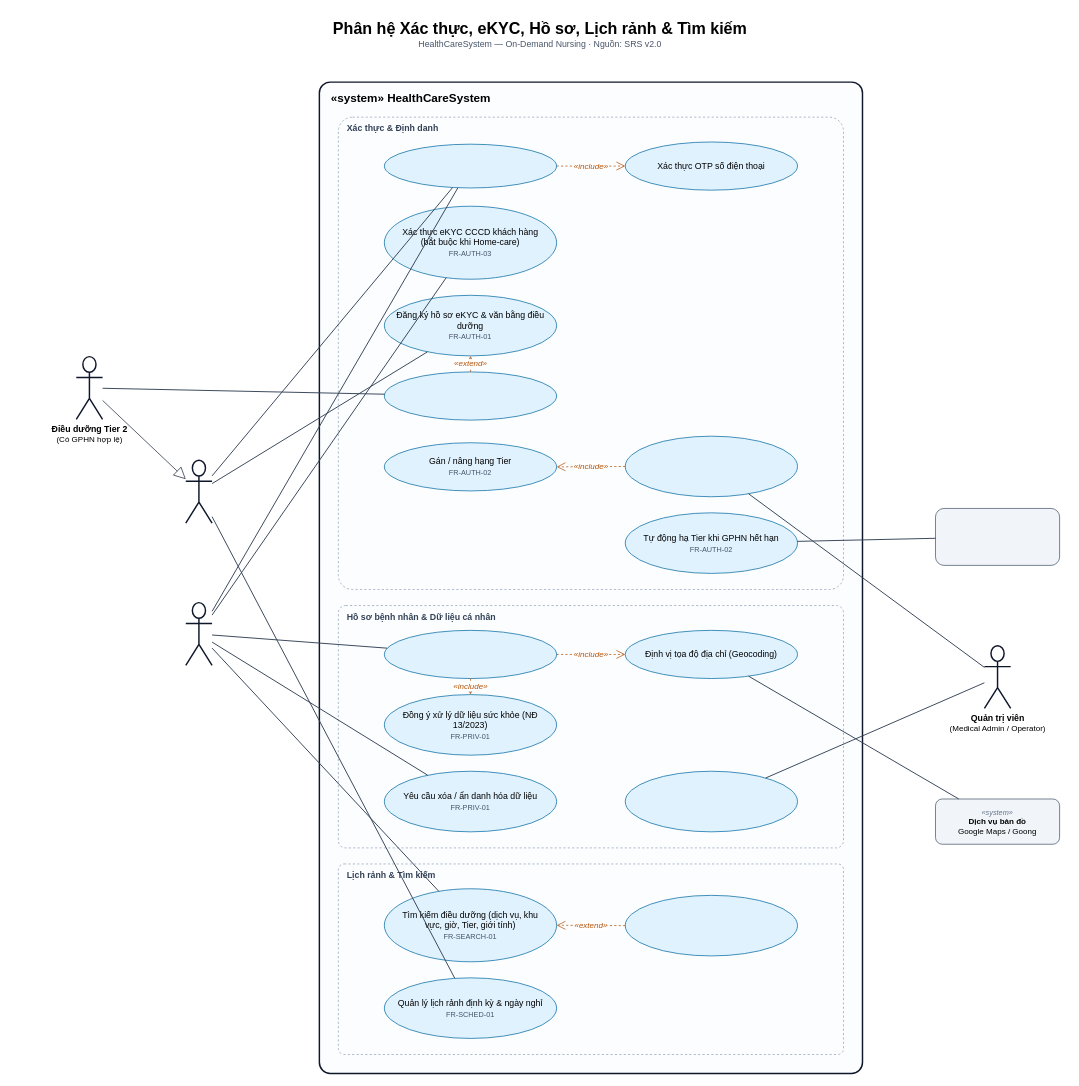
The diagram is 1079 pixels wide and 1086 high, and some of its shapes have lost their labels. The shapes that lost their labels are listed below. From the top down, each one's centre as x and y in pixels, then its label:
(470,165): Đăng ký / Đăng nhập
(470,395): Cập nhật / gia hạn GPHN FR-AUTH-01
(711,466): Thẩm định hồ sơ eKYC & GPHN FR-AUTH-02
(198,491): Điều dưỡng (Nurse Web / Mobile App)
(997,536): «system» Hệ thống tự động Cronjob / Worker Matching Engine
(198,634): Khách hàng (Bệnh nhân / Người nhà)
(470,654): Quản lý hồ sơ bệnh nhân FR-AUTH-03
(711,801): Cấp lại quyền xem bệnh án có thời hạn FR-PRIV-01
(711,925): Xem hồ sơ & nhận xét điều dưỡng FR-SEARCH-01
